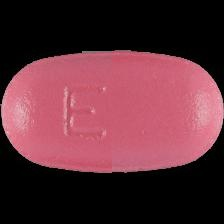55289-075: (0, 0, 224, 224)
